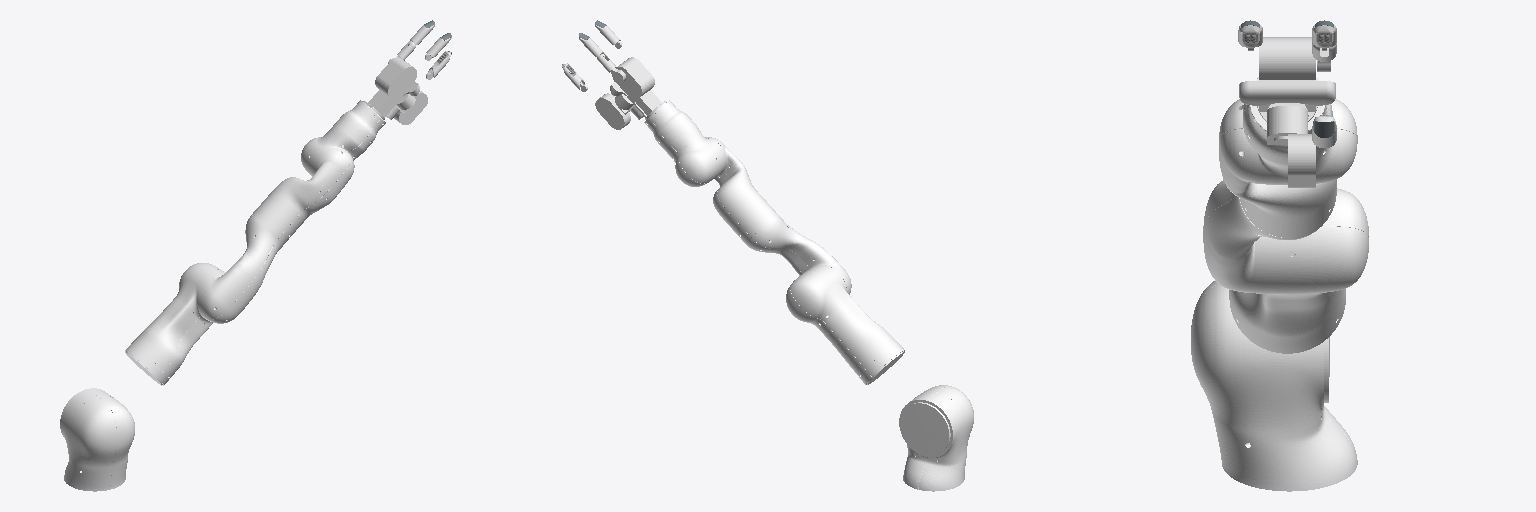
--- What the picture shows (computed from the rendered views, not written in the file) ---
Views: 3 orthographic renders of the robot side by side, from view 1: azimuth 30°, elevation 25°; view 2: azimuth 150°, elevation 25°; view 3: azimuth 270°, elevation 25°.
Model optimo with 25 links and 24 joints (15 revolute, 9 fixed), rooted at world, posed all joints at 0 but 1 set to mid-range because 0 is outside their limits (optimo_joint2 = 2.27).
Links seen in each view (by area): view 1: optimo_link1, optimo_link3, optimo_link5, optimo_link4, plato_base, optimo_link6, optimo_link7; view 2: optimo_link3, optimo_link1, optimo_link5, optimo_link4, optimo_link6, plato_base, optimo_link7, plato_finger1_actuators; view 3: optimo_link1, optimo_link3, optimo_link5, plato_base, optimo_link4, optimo_link6, plato_finger1_actuators, optimo_link7, plato_finger1_metacarpal.
Boxes of the visible links, x1,y1,x2,y2 form: optimo_link1: (60, 388, 134, 491); optimo_link3: (125, 263, 224, 385); optimo_link5: (252, 149, 354, 242); optimo_link4: (198, 215, 284, 323); plato_base: (363, 57, 419, 119); optimo_link6: (301, 124, 364, 176); optimo_link7: (335, 100, 385, 150); optimo_link3: (786, 265, 904, 384); optimo_link1: (899, 385, 973, 491); optimo_link5: (705, 137, 777, 243); optimo_link4: (746, 215, 851, 294); optimo_link6: (665, 124, 726, 186); plato_base: (610, 57, 666, 119); optimo_link7: (644, 100, 694, 149); plato_finger1_actuators: (595, 93, 630, 129); optimo_link1: (1191, 281, 1357, 491); optimo_link3: (1229, 188, 1368, 353); optimo_link5: (1219, 99, 1336, 237); plato_base: (1239, 37, 1335, 121); optimo_link4: (1203, 180, 1330, 292); optimo_link6: (1255, 99, 1357, 184); plato_finger1_actuators: (1274, 134, 1315, 187); optimo_link7: (1243, 77, 1332, 163); plato_finger1_metacarpal: (1267, 103, 1307, 144).
Bounding box of the posed robot: 1.03 × 0.1838 × 0.9215 m (x, y, z).
Meshes: 19 distinct files referenced, 19 mesh visuals loaded (15 binary STL); not drawn: 4 (reference not matched to a file when rendering).

URDF robot description (optimo):
<?xml version="1.0" ?>
<!-- =================================================================================== -->
<!-- |    This document was autogenerated by xacro from optimo.urdf.xacro              | -->
<!-- |    EDITING THIS FILE BY HAND IS NOT RECOMMENDED                                 | -->
<!-- |    "already did :p" - Aaron                                                     | -->
<!-- =================================================================================== -->
<robot name="optimo">
  <material name="white">
    <color rgba="1.0 1.0 1.0 1.0"/>
  </material>
  <link name="world"/>
<joint name="world_to_link0" type="fixed">
    <parent link="world"/>
    <child link="optimo_link0"/>
    <origin rpy="0 0 0" xyz="0 0 .27"/>
  </joint> 
  <link name="optimo_link0">
    <visual>
      <geometry>
        <mesh filename="package://meshes/optimo/J0_clean.stl"/>
      </geometry>
      <material name="white"/>
    </visual>
    <collision>
      <geometry>
        <mesh filename="package://meshes/optimo/col0.stl"/>
      </geometry>
    </collision>
    <inertial>
      <origin xyz="0 0 0"/>
      <mass value="1"/>
      <inertia ixx="0" ixy="0.0" ixz="0.0" iyy="0" iyz="0.0" izz="0"/>
    </inertial>
  </link>
  <joint name="optimo_joint1" type="revolute">
    <origin rpy="0 0 0" xyz="0 0 0"/>
    <parent link="optimo_link0"/>
    <child link="optimo_link1"/>
    <axis xyz="0 0 1"/>
    <limit effort="79" lower="-2.0943951012" upper="2.0943951012" velocity="10"/>
    <dynamics damping=".5" friction=".2"/>
  </joint>
  <link name="optimo_link1">
    <visual>
      <origin rpy="1.5707963267948966 0 0" xyz="0 0 0"/>
      <geometry>
        <mesh filename="package://meshes/optimo/J1_clean.stl"/>
      </geometry>
      <material name="white"/>
    </visual>
    <collision>
      <origin rpy="1.5707963267948966 0 0" xyz="0 0 0"/>
      <geometry>
        <mesh filename="package://meshes/optimo/col1.stl"/>
      </geometry>
    </collision>
    <inertial>
      <origin xyz="0 -0.01549 -0.01635 "/>
      <mass value="4.152"/>
      <inertia ixx="0.01" ixy="0" ixz="0" iyy="0.01" iyz="0" izz="0.006"/>
    </inertial>
  </link>
  <joint name="optimo_joint2" type="revolute">
    <origin rpy="1.5707963267948966 0 0" xyz="0 0 0"/>
    <parent link="optimo_link1"/>
    <child link="optimo_link2"/>
    <axis xyz="0 0 1"/>
    <limit effort="95" lower="1.13446401315" upper="3.40339203945" velocity="10"/>
    <dynamics damping=".5" friction=".2"/>
  </joint>
  <link name="optimo_link2">
    <visual>
      <origin rpy="1.5707963267948966 0 0" xyz="0 0 0.003"/>
      <geometry>
        <mesh filename="package://meshes/optimo/J2_clean.stl"/>
      </geometry>
      <material name="white"/>
    </visual>
    <collision>
      <origin rpy="1.5707963267948966 0 0" xyz="0 0 0"/>
      <geometry>
        <mesh filename="package://meshes/optimo/col2.stl"/>
      </geometry>
    </collision>
    <inertial>
      <origin xyz="0 -0.05677 -0.05063 "/>
      <mass value="1.72"/>
      <inertia ixx="0.004" ixy="0" ixz="0" iyy="0.003" iyz="0" izz="0.005"/>
    </inertial>
  </link>
  <joint name="optimo_joint3" type="revolute">
    <origin rpy="1.5707963267948966 0 0" xyz="0.0 -0.397 0.003"/>
    <parent link="optimo_link2"/>
    <child link="optimo_link3"/>
    <axis xyz="0 0 1"/>
    <limit effort="32" lower="-2.0943951012" upper="2.0943951012" velocity="10"/>
    <dynamics damping=".5" friction=".2"/>
  </joint>
  <link name="optimo_link3">
    <visual>
      <origin rpy="-1.5707963267948966 0 0" xyz="0 0 0"/>
      <geometry>
        <mesh filename="package://meshes/optimo/J3_clean.stl"/>
      </geometry>
      <material name="white"/>
    </visual>
    <collision>
      <origin rpy="-1.5707963267948966 0 0" xyz="0 0 0"/>
      <geometry>
        <mesh filename="package://meshes/optimo/col3.stl"/>
      </geometry>
    </collision>
    <inertial>
      <origin xyz="0 0 -0.098"/>
      <mass value="4.310"/>
      <inertia ixx="0.013" ixy="0" ixz="0" iyy="0.013" iyz="0" izz="0.003"/>
    </inertial>
  </link>
  <joint name="optimo_joint4" type="revolute">
    <origin rpy="-1.5707963267948966 0 0" xyz="0 0 0"/>
    <parent link="optimo_link3"/>
    <child link="optimo_link4"/>
    <axis xyz="0 0 1"/>
    <limit effort="40" lower="-2.4434609514" upper="0.08726646254999999" velocity="10"/>
    <dynamics damping=".5" friction=".2"/>
  </joint>
  <link name="optimo_link4">
    <visual>
      <origin rpy="1.5707963267948966 0 0" xyz="0 0 0"/>
      <geometry>
        <mesh filename="package://meshes/optimo/J4_clean.stl"/>
      </geometry>
      <material name="white"/>
    </visual>
    <collision>
      <origin rpy="1.5707963267948966 0 0" xyz="0 0 0"/>
      <geometry>
        <mesh filename="package://meshes/optimo/col4.stl"/>
      </geometry>
    </collision>
    <inertial>
      <origin xyz="-.00001 -0.0688 0.048852"/>
      <mass value="1.09"/>
      <inertia ixx="0.004" ixy="0" ixz="0" iyy="0.0008" iyz="0" izz="0.004"/>
    </inertial>
  </link>
  <joint name="optimo_joint5" type="revolute">
    <origin rpy="1.5707963267948966 0 0" xyz="0 -0.4 0"/>
    <parent link="optimo_link4"/>
    <child link="optimo_link5"/>
    <axis xyz="0 0 1"/>
    <limit effort="15" lower="-2.6179938765" upper="2.6179938765" velocity="10"/>
    <dynamics damping=".5" friction=".2"/>
  </joint>
  <link name="optimo_link5">
    <visual>
      <origin rpy="-1.5707963267948966 0 0" xyz="0 0 0"/>
      <geometry>
        <mesh filename="package://meshes/optimo/J5_clean.stl"/>
      </geometry>
      <material name="white"/>
    </visual>
    <collision>
      <origin rpy="-1.5707963267948966 0 0" xyz="0 0 0"/>
      <geometry>
        <mesh filename="package://meshes/optimo/col5.stl"/>
      </geometry>
    </collision>
    <inertial>
      <origin xyz="0 0.008 -.085"/>
      <mass value="2.23"/>
      <inertia ixx="0.005" ixy="0" ixz="0" iyy="0.005" iyz="0" izz="0.002"/>
    </inertial>
  </link>
  <joint name="optimo_joint6" type="revolute">
    <origin rpy="-1.5707963267948966 0 0" xyz="0 0 0"/>
    <parent link="optimo_link5"/>
    <child link="optimo_link6"/>
    <axis xyz="0 0 1"/>
    <limit effort="15" lower="-2.00712863865" upper="2.00712863865" velocity="10"/>
    <dynamics damping=".5" friction=".2"/>
  </joint>
  <link name="optimo_link6">
    <visual>
      <origin rpy="1.5707963267948966 0 0" xyz="0 0 0"/>
      <geometry>
        <mesh filename="package://meshes/optimo/J6_clean.stl"/>
      </geometry>
      <material name="white"/>
    </visual>
    <collision>
      <origin rpy="1.5707963267948966 0 0" xyz="0 0 0"/>
      <geometry>
        <mesh filename="package://meshes/optimo/col6.stl"/>
      </geometry>
    </collision>
    <inertial>
      <origin xyz="0  -0.010855 0"/>
      <mass value="1.138"/>
      <inertia ixx="0.0006" ixy="0" ixz="0" iyy="0.0006" iyz="0" izz="0.0005"/>
    </inertial>
  </link>
  <joint name="optimo_joint7" type="revolute">
    <origin rpy="1.5707963267948966 0 0" xyz="0 0 0"/>
    <parent link="optimo_link6"/>
    <child link="optimo_link7"/>
    <axis xyz="0 0 1"/>
    <limit effort="15" lower="-2.0943951012" upper="2.0943951012" velocity="10"/>
    <dynamics damping=".5" friction=".2"/>
  </joint>
  <link name="optimo_link7">
    <visual>
      <origin xyz="0.0 0.0 0.011"/>
      <geometry>
        <mesh filename="package://meshes/optimo/J7_clean.stl"/>
      </geometry>
      <material name="white"/>
    </visual>
    <collision>
      <geometry>
        <mesh filename="package://meshes/optimo/col7.stl"/>
      </geometry>
    </collision>
    <inertial>
      <origin xyz="0 0 0.0"/>
      <mass value=".88"/>
      <inertia ixx="0.0007" ixy="0" ixz="0" iyy="0.0007" iyz="0" izz="0.0003"/>
    </inertial>
  </link>

<!-- =================================================================================== -->
<!-- |                                  PLATO V2.1                                     | -->
<!-- =================================================================================== -->

  <!-- Link plato_base -->
  <link name="plato_base">
    <inertial>
      <origin xyz="-1.53511e-07 -0.0716474 0.00172334" rpy="0 0 0"/>
      <mass value="0.993448"/>
      <inertia ixx="0.00162041" ixy="-3.24339e-09" ixz="-3.49983e-09" iyy="0.000663019" iyz="0.000249986" izz="0.00158906"/>
    </inertial>
    <!-- Part plato_base -->
    <visual>
      <origin xyz="1.73472e-18 -5.55112e-17 -1.49186e-16" rpy="-2.22946e-26 -2.66572e-26 1.3174e-26"/>
      <geometry>
        <mesh filename="package://meshes/plato/plato_base.stl"/>
      </geometry>
      <material name="plato_base_material">
        <color rgba="0.917647 0.917647 0.917647 1"/>
      </material>
    </visual>
    <collision>
      <origin xyz="1.73472e-18 -5.55112e-17 -1.49186e-16" rpy="-2.22946e-26 -2.66572e-26 1.3174e-26"/>
      <geometry>
        <mesh filename="package://meshes/plato/plato_base.stl"/>
      </geometry>
    </collision>
  </link>
  <!-- Joint from optimo_link7 to plato_base -->
  <joint name="plato_base" type="fixed">
    <origin xyz="0 0 0.155" rpy="-1.5708 0 -1.5708"/>
    <parent link="optimo_link7"/>
    <child link="plato_base"/>
  </joint>

  <!-- Link plato_ee -->
  <link name="plato_ee">
    <inertial>
      <origin xyz="0 0 0" rpy="0 0 0"/>
      <mass value="1e-8"/>
      <inertia ixx="1e-8" ixy="0" ixz="0"
               iyy="1e-8" iyz="0" izz="1e-8"/>
    </inertial>
  </link>

  <joint name="plato_ee_joint" type="fixed">
    <origin rpy="0 0 -1.5708" xyz="0.0 -0.175 -0.07"/>
    <parent link="plato_base"/>
    <child link="plato_ee"/>
  </joint>

  <!-- Link plato_finger1_metacarpal -->
  <link name="plato_finger1_metacarpal">
    <inertial>
      <origin xyz="-6.08459e-11 0.0157721 -0.0225938" rpy="0 0 0"/>
      <mass value="0.128154"/>
      <inertia ixx="2.98623e-05" ixy="-4.15355e-14" ixz="1.06399e-13" iyy="3.45751e-05" iyz="7.6309e-07" izz="2.52647e-05"/>
    </inertial>
    <!-- Part plato_finger1_metacarpal -->
    <visual>
      <origin xyz="-8.67362e-18 -1.8735e-16 -2.98372e-16" rpy="1.5708 2.212e-77 1.8546e-68"/>
      <geometry>
        <mesh filename="package://meshes/plato/plato_finger1_metacarpal.stl"/>
      </geometry>
      <material name="plato_finger1_metacarpal_material">
        <color rgba="0.917647 0.917647 0.917647 1"/>
      </material>
    </visual>
    <collision>
      <origin xyz="-8.67362e-18 -1.8735e-16 -2.98372e-16" rpy="1.5708 2.212e-77 1.8546e-68"/>
      <geometry>
        <mesh filename="package://meshes/plato/plato_finger1_metacarpal.stl"/>
      </geometry>
    </collision>
  </link>
  <!-- Link plato_finger1_actuators -->
  <link name="plato_finger1_actuators">
    <inertial>
      <origin xyz="0.0148019 -4.94375e-11 -0.0226641" rpy="0 0 0"/>
      <mass value="0.274056"/>
      <inertia ixx="0.000181576" ixy="-1.69615e-14" ixz="1.14914e-06" iyy="6.13317e-05" iyz="-1.23312e-13" izz="0.00016059"/>
    </inertial>
    <!-- Part plato_finger1_actuators -->
    <visual>
      <origin xyz="8.57253e-19 0 0" rpy="0 -0 1.50653e-43"/>
      <geometry>
        <mesh filename="package://meshes/plato/plato_finger1_actuators.stl"/>
      </geometry>
      <material name="plato_finger1_actuators_material">
        <color rgba="0.917647 0.917647 0.917647 1"/>
      </material>
    </visual>
    <collision>
      <origin xyz="8.57253e-19 0 0" rpy="0 -0 1.50653e-43"/>
      <geometry>
        <mesh filename="package://meshes/plato/plato_finger1_actuators.stl"/>
      </geometry>
    </collision>
  </link>
  <!-- Link plato_finger1_link1 -->
  <link name="plato_finger1_link1">
    <inertial>
      <origin xyz="-0.0233359 9.15466e-08 -0.00730725" rpy="0 0 0"/>
      <mass value="0.0607448"/>
      <inertia ixx="4.06228e-06" ixy="7.80075e-11" ixz="-2.74097e-07" iyy="3.05761e-05" iyz="9.11964e-11" izz="3.04207e-05"/>
    </inertial>
    <!-- Part plato_finger1_link1 -->
    <visual>
      <origin xyz="0 0 0" rpy="1.5708 1.5708 0"/>
      <geometry>
        <mesh filename="package://meshes/plato/plato_finger1_link1.stl"/>
      </geometry>
      <material name="plato_finger1_link1_material">
        <color rgba="0.917647 0.917647 0.917647 1"/>
      </material>
    </visual>
    <collision>
      <origin xyz="0 0 0" rpy="1.5708 1.5708 0"/>
      <geometry>
        <mesh filename="package://meshes/plato/plato_finger1_link1.stl"/>
      </geometry>
    </collision>
  </link>
  <!-- Link plato_finger1_link2 -->
  <link name="plato_finger1_link2">
    <inertial>
      <origin xyz="-0.0368121 -2.24309e-05 -0.00299998" rpy="0 0 0"/>
      <mass value="0.054769"/>
      <inertia ixx="3.18679e-06" ixy="5.8235e-07" ixz="-9.12132e-11" iyy="1.92506e-05" iyz="6.92135e-11" izz="1.8357e-05"/>
    </inertial>
    <!-- Part plato_finger1_link2 -->
    <visual>
      <origin xyz="-0.0395 0.0012 0.01065" rpy="1.5708 1.5708 0"/>
      <geometry>
        <mesh filename="package://meshes/plato/plato_finger1_link2.stl"/>
      </geometry>
      <material name="plato_finger1_link2_material">
        <color rgba="0.917647 0.917647 0.917647 1"/>
      </material>
    </visual>
    <collision>
      <origin xyz="-0.0395 0.0012 0.01065" rpy="1.5708 1.5708 0"/>
      <geometry>
        <mesh filename="package://meshes/plato/plato_finger1_link2.stl"/>
      </geometry>
    </collision>
  </link>

  <!-- Finger 1 extras: nail + pad as separate links -->
  <link name="plato_finger1_nail">
    <inertial>
      <origin xyz="0 0 0" rpy="0 0 0"/>
      <mass value="1e-8"/>
      <inertia ixx="1e-8" ixy="0" ixz="0"
               iyy="1e-8" iyz="0" izz="1e-8"/>
    </inertial>
    <visual>
      <origin xyz="-0.00596456 -0.0206712 -0.003" rpy="2.00713 1.5708 0"/>
      <geometry>
        <mesh filename="package://meshes/plato/finger_nail.stl"/>
      </geometry>
      <material name="finger_nail_material">
        <color rgba="0.529412 0.568627 0.6 1"/>
      </material>
    </visual>
    <collision>
      <origin xyz="-0.00596456 -0.0206712 -0.003" rpy="2.00713 1.5708 0"/>
      <geometry>
        <mesh filename="package://meshes/plato/finger_nail.stl"/>
      </geometry>
    </collision>
  </link>
  <link name="plato_finger1_pad">
    <inertial>
      <origin xyz="0 0 0" rpy="0 0 0"/>
      <mass value="1e-8"/>
      <inertia ixx="1e-8" ixy="0" ixz="0"
               iyy="1e-8" iyz="0" izz="1e-8"/>
    </inertial>
    <visual>
      <origin xyz="-0.0393241 0.001203 0.0106496" rpy="1.5708 1.5708 0"/>
      <geometry>
        <mesh filename="package://meshes/plato/gel_2x4_silicone.stl"/>
      </geometry>
      <material name="gel_2x4_silicone_material">
        <color rgba="0.647059 0.647059 0.647059 1"/>
      </material>
    </visual>
    <collision>
      <origin xyz="-0.0393241 0.001203 0.0106496" rpy="1.5708 1.5708 0"/>
      <geometry>
        <mesh filename="package://meshes/plato/gel_2x4_silicone.stl"/>
      </geometry>
    </collision>
  </link>

  <joint name="plato_finger1_jointnail" type="fixed">
    <origin rpy="0 0 0" xyz="0 -0.0005 0"/>
    <parent link="plato_finger1_link2"/>
    <child link="plato_finger1_nail"/>
  </joint>

  <joint name="plato_finger1_pad" type="fixed">
    <origin rpy="0 0 0" xyz="0 -0.0005 0"/>
    <parent link="plato_finger1_link2"/>
    <child link="plato_finger1_pad"/>
  </joint>

  <!-- Joint from plato_finger1_link1 to plato_finger1_link2 -->
  <joint name="plato_finger1_joint2" type="revolute">
    <origin xyz="-0.06 0 -0.0105" rpy="-3.14159 -5.51605e-30 4.59177e-41"/>
    <parent link="plato_finger1_link1"/>
    <child link="plato_finger1_link2"/>
    <axis xyz="0 0 1"/>
    <limit effort="10" velocity="10" lower="-2.0944" upper="1.0472"/>
  </joint>
  <!-- Joint from plato_finger1_actuators to plato_finger1_link1 -->
  <joint name="plato_finger1_joint1" type="revolute">
    <origin xyz="0.0305 -0.022 -0.0235" rpy="-1.5708 -0 1.5708"/>
    <parent link="plato_finger1_actuators"/>
    <child link="plato_finger1_link1"/>
    <axis xyz="0 0 1"/>
    <limit effort="10" velocity="10" lower="-1.0472" upper="1.0472"/>
  </joint>
  <!-- Joint from plato_finger1_metacarpal to plato_finger1_actuators -->
  <joint name="plato_finger1_actuators" type="revolute">
    <origin xyz="4.56881e-17 0.0315 -0.025" rpy="1.5708 -4.77399e-42 -9.95799e-17"/>
    <parent link="plato_finger1_metacarpal"/>
    <child link="plato_finger1_actuators"/>
    <axis xyz="0 0 1"/>
    <limit effort="10" velocity="10" lower="-1.5708" upper="1.5708"/>
  </joint>
  <!-- Joint from plato_base to plato_finger1_metacarpal -->
  <joint name="plato_finger1_metacarpal" type="revolute">
    <origin xyz="-1.42382e-10 -0.044 -0.0285" rpy="-1.5708 1.41781e-52 -1.81754e-27"/>
    <parent link="plato_base"/>
    <child link="plato_finger1_metacarpal"/>
    <axis xyz="0 0 1"/>
    <limit effort="10" velocity="10" lower="-0.785398" upper="0.785398"/>
  </joint>

  <!-- Link plato_finger2_link1 -->
  <link name="plato_finger2_link1">
    <inertial>
      <origin xyz="-0.0233359 9.15466e-08 -0.00730725" rpy="0 0 0"/>
      <mass value="0.0607448"/>
      <inertia ixx="4.06228e-06" ixy="7.80075e-11" ixz="-2.74097e-07" iyy="3.05761e-05" iyz="9.11964e-11" izz="3.04207e-05"/>
    </inertial>
    <!-- Part plato_finger2_link1 -->
    <visual>
      <origin xyz="0 0 0" rpy="1.5708 1.5708 0"/>
      <geometry>
        <mesh filename="package://meshes/plato/plato_finger2_link1.stl"/>
      </geometry>
      <material name="plato_finger2_link1_material">
        <color rgba="0.917647 0.917647 0.917647 1"/>
      </material>
    </visual>
    <collision>
      <origin xyz="0 0 0" rpy="1.5708 1.5708 0"/>
      <geometry>
        <mesh filename="package://meshes/plato/plato_finger2_link1.stl"/>
      </geometry>
    </collision>
  </link>
  <!-- Link plato_finger2_link2 (clean: no embedded nail/pad) -->
  <link name="plato_finger2_link2">
    <inertial>
      <origin xyz="-0.0368138 1.97334e-05 -0.00300054" rpy="0 0 0"/>
      <mass value="0.0547792"/>
      <inertia ixx="3.18727e-06" ixy="-5.8484e-07" ixz="2.179e-10" iyy="1.92547e-05" iyz="-1.08224e-10" izz="1.83601e-05"/>
    </inertial>
    <!-- Part plato_finger2_link2 -->
    <visual>
      <origin xyz="-0.0395 -0.0012 -0.01665" rpy="-1.5708 -1.5708 0"/>
      <geometry>
        <mesh filename="package://meshes/plato/plato_finger2_link2.stl"/>
      </geometry>
      <material name="plato_finger2_link2_material">
        <color rgba="0.917647 0.917647 0.917647 1"/>
      </material>
    </visual>
    <collision>
      <origin xyz="-0.0395 -0.0012 -0.01665" rpy="-1.5708 -1.5708 0"/>
      <geometry>
        <mesh filename="package://meshes/plato/plato_finger2_link2.stl"/>
      </geometry>
    </collision>
  </link>

  <!-- New: finger 2 nail link -->
  <link name="plato_finger2_nail">
    <inertial>
      <origin xyz="0 0 0" rpy="0 0 0"/>
      <mass value="1e-8"/>
      <inertia ixx="1e-8" ixy="0" ixz="0" iyy="1e-8" iyz="0" izz="1e-8"/>
    </inertial>
    <visual>
      <origin xyz="-0.00608548 0.020339 -0.00299995" rpy="1.5708 -1.5708 -2.70526"/>
      <geometry><mesh filename="package://meshes/plato/finger_nail.stl"/></geometry>
      <material name="finger_nail_2_material"><color rgba="0.529412 0.568627 0.6 1"/></material>
    </visual>
    <collision>
      <origin xyz="-0.00608548 0.020339 -0.00299995" rpy="1.5708 -1.5708 -2.70526"/>
      <geometry><mesh filename="package://meshes/plato/finger_nail.stl"/></geometry>
    </collision>
  </link>

  <!-- New: finger 2 pad link -->
  <link name="plato_finger2_pad">
    <inertial>
      <origin xyz="0 0 0" rpy="0 0 0"/>
      <mass value="1e-8"/>
      <inertia ixx="1e-8" ixy="0" ixz="0" iyy="1e-8" iyz="0" izz="1e-8"/>
    </inertial>
    <visual>
      <origin xyz="-0.0393219 -0.001203 -0.0166496" rpy="-1.5708 -1.5708 0"/>
      <geometry><mesh filename="package://meshes/plato/gel_2x4_silicone.stl"/></geometry>
      <material name="gel_2x4_silicone_2_material"><color rgba="0.647059 0.647059 0.647059 1"/></material>
    </visual>
    <collision>
      <origin xyz="-0.0393219 -0.001203 -0.0166496" rpy="-1.5708 -1.5708 0"/>
      <geometry><mesh filename="package://meshes/plato/gel_2x4_silicone.stl"/></geometry>
    </collision>
  </link>

  <!-- Fixed joints from finger2_link2 to nail/pad -->
  <joint name="plato_finger2_jointnail" type="fixed">
    <origin xyz="0 0 0" rpy="0 0 0"/>
    <parent link="plato_finger2_link2"/>
    <child link="plato_finger2_nail"/>
  </joint>

  <joint name="plato_finger2_pad" type="fixed">
    <origin xyz="0 0 0" rpy="0 0 0"/>
    <parent link="plato_finger2_link2"/>
    <child link="plato_finger2_pad"/>
  </joint>

  <!-- Joint from plato_finger2_link1 to plato_finger2_link2 -->
  <joint name="plato_finger2_joint2" type="revolute">
    <origin xyz="-0.06 -1.73472e-18 -0.0105" rpy="-3.14159 -5.81785e-30 0"/>
    <parent link="plato_finger2_link1"/>
    <child link="plato_finger2_link2"/>
    <axis xyz="0 0 1"/>
    <limit effort="10" velocity="10" lower="-1.0472" upper="2.0944"/>
  </joint>
  <!-- Joint from plato_base to plato_finger2_link1 -->
  <joint name="plato_finger2_joint1" type="revolute">
    <origin xyz="0.0305 -0.113 0.0145" rpy="-1.5708 -1.56015e-25 1.5708"/>
    <parent link="plato_base"/>
    <child link="plato_finger2_link1"/>
    <axis xyz="0 0 1"/>
    <limit effort="10" velocity="10" lower="-1.0472" upper="1.0472"/>
  </joint>

  <!-- Link plato_finger3_link1 -->
  <link name="plato_finger3_link1">
    <inertial>
      <origin xyz="-0.0233359 9.15466e-08 -0.00730725" rpy="0 0 0"/>
      <mass value="0.0607448"/>
      <inertia ixx="4.06228e-06" ixy="7.80075e-11" ixz="-2.74097e-07" iyy="3.05761e-05" iyz="9.11964e-11" izz="3.04207e-05"/>
    </inertial>
    <!-- Part plato_finger3_link1 -->
    <visual>
      <origin xyz="0 0 0" rpy="1.5708 1.5708 0"/>
      <geometry>
        <mesh filename="package://meshes/plato/plato_finger3_link1.stl"/>
      </geometry>
      <material name="plato_finger3_link1_material">
        <color rgba="0.917647 0.917647 0.917647 1"/>
      </material>
    </visual>
    <collision>
      <origin xyz="0 0 0" rpy="1.5708 1.5708 0"/>
      <geometry>
        <mesh filename="package://meshes/plato/plato_finger3_link1.stl"/>
      </geometry>
    </collision>
  </link>
  <!-- Link plato_finger3_link2 (clean: no embedded nail/pad) -->
  <link name="plato_finger3_link2">
    <inertial>
      <origin xyz="-0.0368127 2.08487e-05 -0.00300002" rpy="0 0 0"/>
      <mass value="0.054769"/>
      <inertia ixx="3.18614e-06" ixy="-5.84424e-07" ixz="9.12334e-11" iyy="1.92522e-05" iyz="6.8963e-11" izz="1.8358e-05"/>
    </inertial>
    <!-- Part plato_finger3_link2 -->
    <visual>
      <origin xyz="-0.0395 -0.0012 -0.01665" rpy="-1.5708 -1.5708 0"/>
      <geometry>
        <mesh filename="package://meshes/plato/plato_finger3_link2.stl"/>
      </geometry>
      <material name="plato_finger3_link2_material">
        <color rgba="0.917647 0.917647 0.917647 1"/>
      </material>
    </visual>
    <collision>
      <origin xyz="-0.0395 -0.0012 -0.01665" rpy="-1.5708 -1.5708 0"/>
      <geometry>
        <mesh filename="package://meshes/plato/plato_finger3_link2.stl"/>
      </geometry>
    </collision>
  </link>

  <!-- New: finger 3 nail link -->
  <link name="plato_finger3_nail">
    <inertial>
      <origin xyz="0 0 0" rpy="0 0 0"/>
      <mass value="1e-8"/>
      <inertia ixx="1e-8" ixy="0" ixz="0" iyy="1e-8" iyz="0" izz="1e-8"/>
    </inertial>
    <visual>
      <origin xyz="-0.00608548 0.020339 -0.00300005" rpy="-1.5708 -1.5708 0.436332"/>
      <geometry><mesh filename="package://meshes/plato/finger_nail.stl"/></geometry>
      <material name="finger_nail_3_material"><color rgba="0.529412 0.568627 0.6 1"/></material>
    </visual>
    <collision>
      <origin xyz="-0.00608548 0.020339 -0.00300005" rpy="-1.5708 -1.5708 0.436332"/>
      <geometry><mesh filename="package://meshes/plato/finger_nail.stl"/></geometry>
    </collision>
  </link>

  <!-- New: finger 3 pad link -->
  <link name="plato_finger3_pad">
    <inertial>
      <origin xyz="0 0 0" rpy="0 0 0"/>
      <mass value="1e-8"/>
      <inertia ixx="1e-8" ixy="0" ixz="0" iyy="1e-8" iyz="0" izz="1e-8"/>
    </inertial>
    <visual>
      <origin xyz="-0.0393241 -0.001203 -0.0166496" rpy="-1.5708 -1.5708 0"/>
      <geometry><mesh filename="package://meshes/plato/gel_2x4_silicone.stl"/></geometry>
      <material name="gel_2x4_silicone_3_material"><color rgba="0.647059 0.647059 0.647059 1"/></material>
    </visual>
    <collision>
      <origin xyz="-0.0393241 -0.001203 -0.0166496" rpy="-1.5708 -1.5708 0"/>
      <geometry><mesh filename="package://meshes/plato/gel_2x4_silicone.stl"/></geometry>
    </collision>
  </link>

  <!-- Fixed joints from finger3_link2 to nail/pad -->
  <joint name="plato_finger3_jointnail" type="fixed">
    <origin xyz="0 0 0" rpy="0 0 0"/>
    <parent link="plato_finger3_link2"/>
    <child link="plato_finger3_nail"/>
  </joint>

  <joint name="plato_finger3_pad" type="fixed">
    <origin xyz="0 0 0" rpy="0 0 0"/>
    <parent link="plato_finger3_link2"/>
    <child link="plato_finger3_pad"/>
  </joint>

  <!-- Joint from plato_finger3_link1 to plato_finger3_link2 -->
  <joint name="plato_finger3_joint2" type="revolute">
    <origin xyz="-0.06 -1.73472e-18 -0.0045" rpy="-1.97215e-31 -6.06437e-30 9.18355e-41"/>
    <parent link="plato_finger3_link1"/>
    <child link="plato_finger3_link2"/>
    <axis xyz="0 0 1"/>
    <limit effort="10" velocity="10" lower="-1.0472" upper="2.0944"/>
  </joint>
  <!-- Joint from plato_base to plato_finger3_link1 -->
  <joint name="plato_finger3_joint1" type="revolute">
    <origin xyz="-0.0305 -0.113 0.0145" rpy="1.5708 -1.56015e-25 1.5708"/>
    <parent link="plato_base"/>
    <child link="plato_finger3_link1"/>
    <axis xyz="0 0 1"/>
    <limit effort="10" velocity="10" lower="-1.0472" upper="1.0472"/>
  </joint>

</robot>
